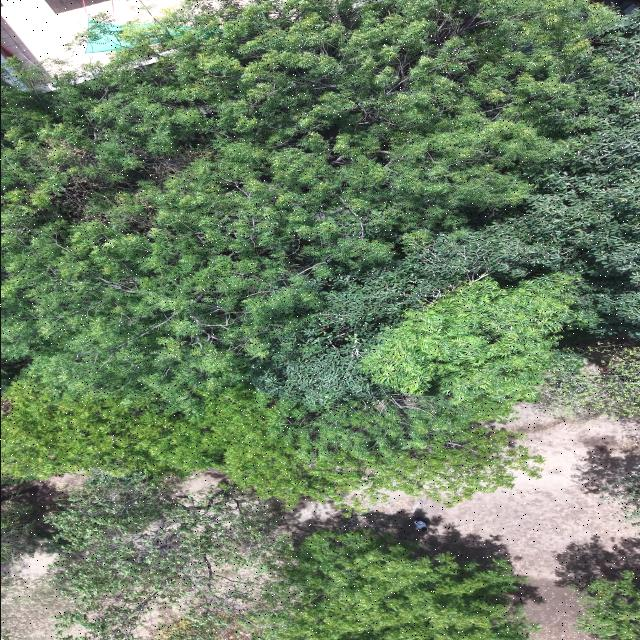DRY_AREA: (355, 405, 639, 639), (377, 405, 639, 639), (1, 0, 179, 67), (1, 553, 67, 639)
VEGETATION_TREE: (1, 0, 639, 639), (1, 0, 639, 501), (3, 0, 607, 409), (258, 15, 639, 404), (44, 472, 533, 639), (1, 380, 541, 504), (158, 529, 537, 639), (47, 474, 281, 639), (259, 529, 535, 639), (362, 273, 580, 406), (1, 378, 254, 477), (540, 345, 639, 419), (1, 483, 64, 574), (573, 566, 639, 639), (576, 570, 639, 639), (599, 465, 639, 525), (157, 615, 254, 639), (157, 616, 231, 639)
